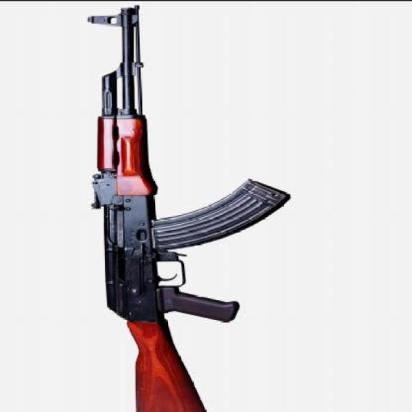Gun: (76, 6, 296, 412)
